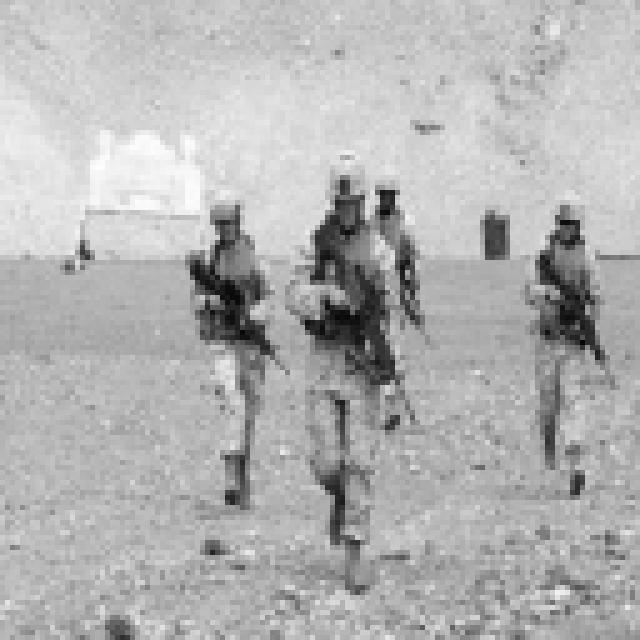Rifle: (286, 225, 424, 428), (492, 246, 628, 408), (167, 235, 298, 397), (389, 203, 449, 347)
